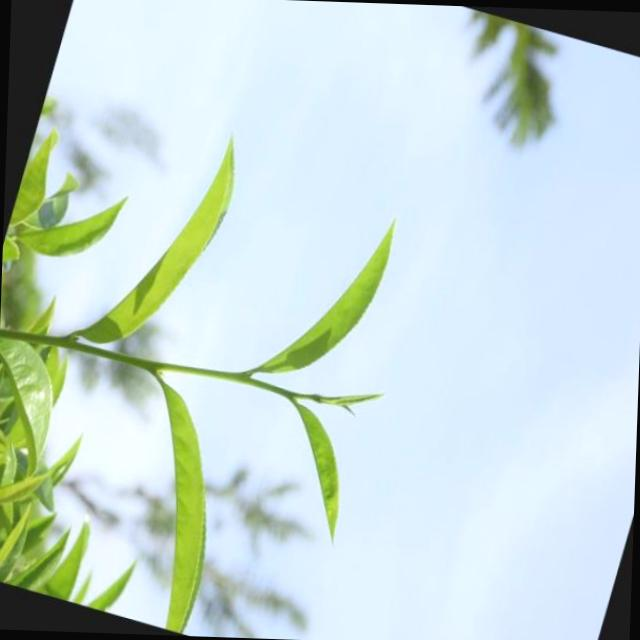Stem: (282, 388, 296, 401)
